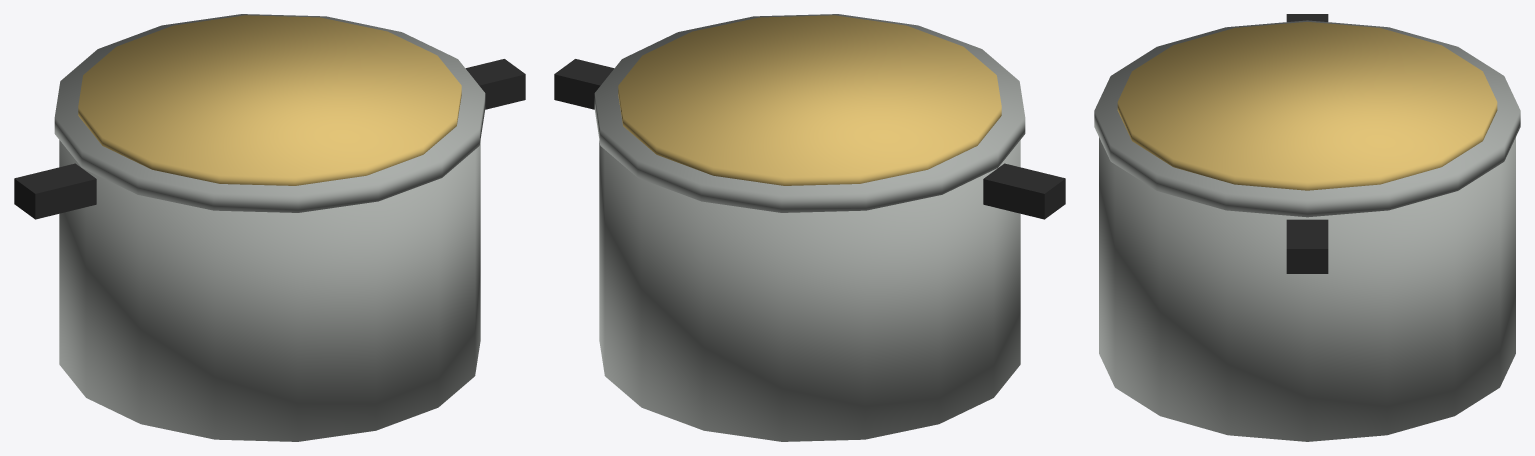
File: pot_macaroni.glb
3 renders of one model, left to right at view 1: azimuth 30°, elevation 25°; view 2: azimuth 150°, elevation 25°; view 3: azimuth 270°, elevation 25°, orthographic.
Visible parts, largest first — view 1: Item; view 2: Item; view 3: Item.
Part boxes in pixels (x1,y1,x2,y2): Item: (14,14,525,441); Item: (554,14,1065,441); Item: (1094,14,1520,441).
Bounding box in the file's own units: 0.24 × 0.12 × 0.184.
